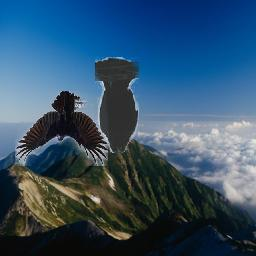Crow: (16, 92, 109, 167), (95, 57, 139, 153)
